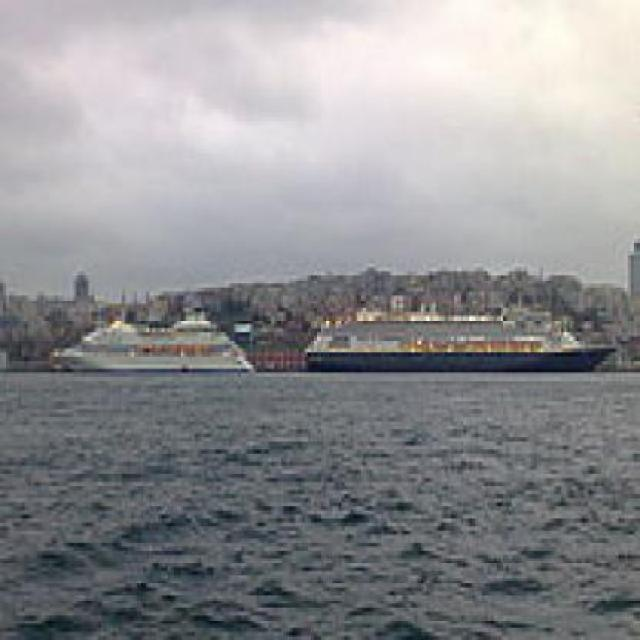cruise: (293, 281, 629, 387), (44, 305, 264, 386)
